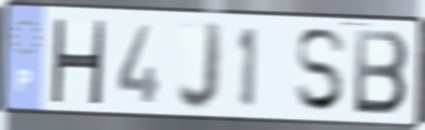1: (235, 24, 260, 112)
4: (114, 22, 162, 106)
B: (351, 26, 412, 118)
H: (47, 16, 108, 108)
J: (174, 18, 226, 114)
S: (293, 26, 351, 115)
